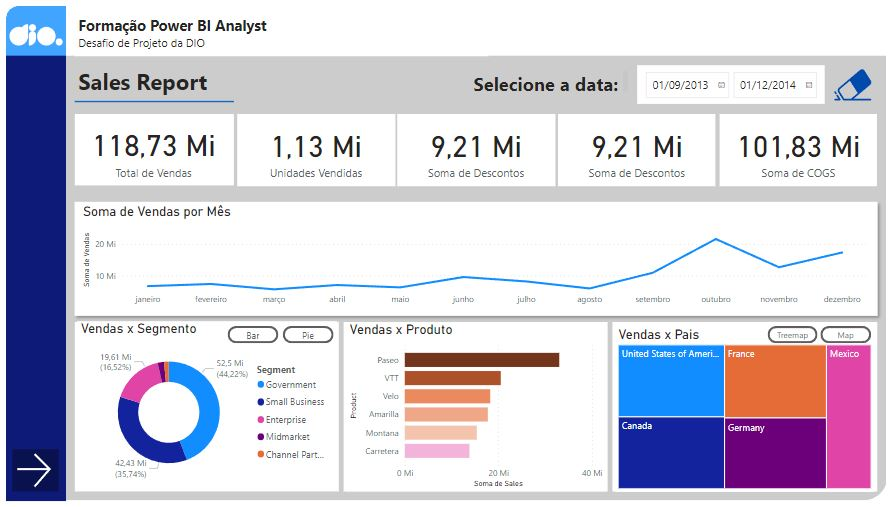

The page's visual inventory and layout, read from the dashboard file:
{"tool":"powerbi","page":{"name":"Página 1","canvas":[1280,720],"ordinal":0},"visuals":[{"type":"shape","box":[0,0,87.5,719.6],"z":0,"group":"g6"},{"type":"group","id":"g1","title":"Fundo","box":[0,0,1280.7,719.3],"z":0},{"type":"shape","box":[0,0,1280.7,719.3],"z":0,"group":"g1"},{"type":"shape","box":[86.8,0,1192.8,72.5],"z":0,"group":"g8"},{"type":"slicer","fields":{"Values":["financials.Date"]},"box":[917.5,85.9,272.5,56.5],"z":0,"group":"g2"},{"type":"shape","box":[100.5,115,231,48],"z":0,"group":"g7"},{"type":"shape","box":[100,156.7,230.8,104.4],"z":0,"group":"g5"},{"type":"treemap","title":" Vendas x Pais","fields":{"Group":["financials.Country"],"Values":["Sum(financials. Sales)"]},"box":[884.8,466.1,376.9,240.3],"z":0,"group":"g3"},{"type":"donutChart","title":"Vendas x Segmento ","fields":{"Y":["Sum(financials. Sales)"],"Category":["financials.Segment"]},"box":[103.8,457.7,376.9,244.2],"z":500,"group":"g4"},{"type":"shape","box":[0,0,87,72.5],"z":1000,"group":"g6"},{"type":"textbox","box":[100,8.9,601.8,64.3],"z":1000,"group":"g8"},{"type":"textbox","box":[100.5,83,215.5,56],"z":1000,"group":"g7"},{"type":"textbox","box":[673.9,89.2,234.9,42.2],"z":1000,"group":"g2"},{"type":"shape","box":[335.7,157,229.6,104.7],"z":1000,"group":"g5"},{"type":"shape","box":[90.7,275.9,1185.2,183.3],"z":1000,"group":"g1"},{"type":"lineChart","fields":{"Y":["Sum(financials. Sales)"],"Category":["financials.Date.Variation.Hierarquia de datas.Mês"]},"box":[107.4,288.9,1150,155.6],"z":1000},{"type":"actionButton","title":"Botão - pie","box":[402,464.6,73.3,25],"z":1500,"group":"g4"},{"type":"actionButton","title":"Botão - map","box":[1184.2,465.2,73.4,24.7],"z":1500,"group":"g3"},{"type":"image","title":"Logo DIO","box":[0,16.1,87.5,50],"z":2000,"group":"g6"},{"type":"actionButton","box":[1191.7,80,72.5,62.3],"z":2000,"group":"g2"},{"type":"shape","box":[1037.6,157,229,104.7],"z":2000,"group":"g5"},{"type":"shape","box":[100,459.3,383.3,246.3],"z":2000,"group":"g1"},{"type":"clusteredBarChart","title":"Vendas x Produto","fields":{"Y":["Sum(financials. Sales)"],"Category":["financials.Product"]},"box":[494.4,459.3,377.8,246.3],"z":2000},{"type":"actionButton","title":"Botão - bar","box":[321.9,464.6,73.3,25],"z":2000,"group":"g4"},{"type":"actionButton","title":"Botão - treemap","box":[1106.3,465.2,72.8,24.7],"z":2000,"group":"g3"},{"type":"group","id":"g2","title":"Filtro por data","box":[673.9,79.7,590.3,69.1],"z":3000},{"type":"image","title":"Clean","box":[1198,79.7,63.8,69.1],"z":3000,"group":"g2"},{"type":"shape","box":[568.7,157,229.6,104.7],"z":3000,"group":"g5"},{"type":"shape","box":[881.5,459.3,385.2,246.3],"z":3000,"group":"g1"},{"type":"shape","box":[802.9,157,229,104.7],"z":4000,"group":"g5"},{"type":"shape","box":[490.7,459.3,383.3,246.3],"z":4000,"group":"g1"},{"type":"group","id":"g3","title":"Vendas x País","box":[884.8,465.2,377.8,241.1],"z":4000},{"type":"card","fields":{"Values":["Sum(financials.COGS)"]},"box":[1044.4,163,214.8,94.4],"z":5000,"group":"g5"},{"type":"group","id":"g4","title":"Vendas x Segmentos","box":[103.7,457.7,377.1,247.9],"z":5000},{"type":"group","id":"g5","title":"Cards","box":[100,156.7,1166.7,105],"z":6000},{"type":"card","fields":{"Values":["Sum(financials.Discounts)"]},"box":[809.3,163,214.8,94.4],"z":6000,"group":"g5"},{"type":"group","id":"g6","title":"Lateral Esquerda","box":[0,0,87.5,719.6],"z":7000},{"type":"card","fields":{"Values":["Sum(financials.Discounts)"]},"box":[575.9,163,214.8,94.4],"z":7000,"group":"g5"},{"type":"group","id":"g7","title":"Title report","box":[100.5,83,231,80],"z":8000},{"type":"card","fields":{"Values":["Sum(financials.Units Sold)"]},"box":[342.6,163,214.8,94.4],"z":8000,"group":"g5"},{"type":"group","id":"g8","title":"Top","box":[86.8,0,1192.8,73.2],"z":9000},{"type":"card","fields":{"Values":["Sum(financials. Sales)"]},"box":[107.4,161.1,214.8,94.4],"z":9000,"group":"g5"},{"type":"actionButton","title":"Botão - prox p","box":[9.2,644.6,67.7,61.5],"z":10000}]}

Visuals, with their boxes in screenshot pixels (x1, y1, x2, y2), scaled from the page's 1280x720 canvas onto the 896x507 screenshot:
shape: (x1=0, y1=0, x2=61, y2=506)
"Fundo" group: (x1=0, y1=0, x2=895, y2=506)
shape: (x1=0, y1=0, x2=895, y2=506)
shape: (x1=61, y1=0, x2=895, y2=51)
slicer - financials.Date: (x1=642, y1=60, x2=833, y2=100)
shape: (x1=70, y1=81, x2=232, y2=115)
shape: (x1=70, y1=110, x2=232, y2=184)
" Vendas x Pais" treemap: (x1=619, y1=328, x2=883, y2=497)
"Vendas x Segmento " donutChart: (x1=73, y1=322, x2=336, y2=494)
shape: (x1=0, y1=0, x2=61, y2=51)
textbox: (x1=70, y1=6, x2=491, y2=52)
textbox: (x1=70, y1=58, x2=221, y2=98)
textbox: (x1=472, y1=63, x2=636, y2=93)
shape: (x1=235, y1=111, x2=396, y2=184)
shape: (x1=63, y1=194, x2=893, y2=323)
lineChart - Sum(financials. Sales) x financials.Date.Variation.Hierarquia de datas.Mês: (x1=75, y1=203, x2=880, y2=313)
"Botão - pie" actionButton: (x1=281, y1=327, x2=333, y2=345)
"Botão - map" actionButton: (x1=829, y1=328, x2=880, y2=345)
"Logo DIO" image: (x1=0, y1=11, x2=61, y2=47)
actionButton: (x1=834, y1=56, x2=885, y2=100)
shape: (x1=726, y1=111, x2=887, y2=184)
shape: (x1=70, y1=323, x2=338, y2=497)
"Vendas x Produto" clusteredBarChart: (x1=346, y1=323, x2=611, y2=497)
"Botão - bar" actionButton: (x1=225, y1=327, x2=277, y2=345)
"Botão - treemap" actionButton: (x1=774, y1=328, x2=825, y2=345)
"Filtro por data" group: (x1=472, y1=56, x2=885, y2=105)
"Clean" image: (x1=839, y1=56, x2=883, y2=105)
shape: (x1=398, y1=111, x2=559, y2=184)
shape: (x1=617, y1=323, x2=887, y2=497)
shape: (x1=562, y1=111, x2=722, y2=184)
shape: (x1=343, y1=323, x2=612, y2=497)
"Vendas x País" group: (x1=619, y1=328, x2=884, y2=497)
card - Sum(financials.COGS): (x1=731, y1=115, x2=881, y2=181)
"Vendas x Segmentos" group: (x1=73, y1=322, x2=337, y2=497)
"Cards" group: (x1=70, y1=110, x2=887, y2=184)
card - Sum(financials.Discounts): (x1=567, y1=115, x2=717, y2=181)
"Lateral Esquerda" group: (x1=0, y1=0, x2=61, y2=506)
card - Sum(financials.Discounts): (x1=403, y1=115, x2=553, y2=181)
"Title report" group: (x1=70, y1=58, x2=232, y2=115)
card - Sum(financials.Units Sold): (x1=240, y1=115, x2=390, y2=181)
"Top" group: (x1=61, y1=0, x2=895, y2=52)
card - Sum(financials. Sales): (x1=75, y1=113, x2=226, y2=180)
"Botão - prox p" actionButton: (x1=6, y1=454, x2=54, y2=497)
